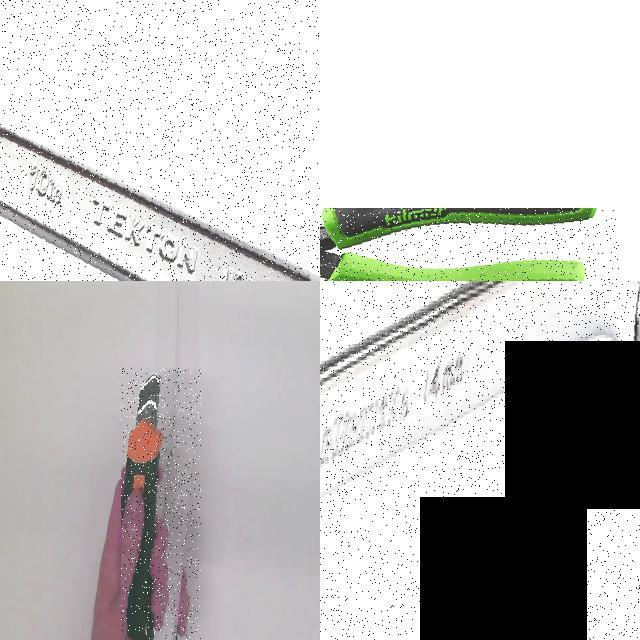estilete: (122, 376, 162, 639)
